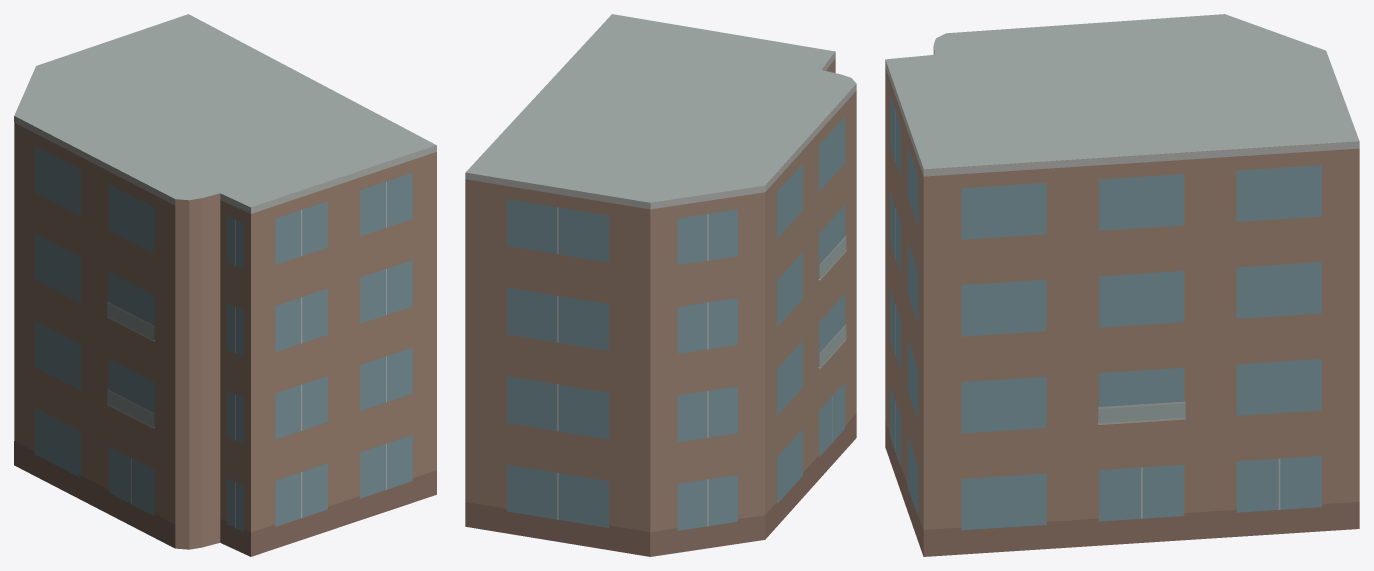
The model's file is survey-upis-33026999.glb.
3 renders of one model, left to right at view 1: azimuth 30°, elevation 25°; view 2: azimuth 150°, elevation 25°; view 3: azimuth 270°, elevation 25°, orthographic. The views are drawn at different scales.
Parts seen in each view (by area): view 1: survey-upis-33026999.tmp; view 2: survey-upis-33026999.tmp; view 3: survey-upis-33026999.tmp.
Boxes of the visible parts, x1,y1,x2,y2 form: survey-upis-33026999.tmp: (14, 14, 436, 556); survey-upis-33026999.tmp: (465, 14, 856, 556); survey-upis-33026999.tmp: (885, 14, 1359, 556).
Bounding box in the file's own units: 11.18 × 13 × 14.43.
